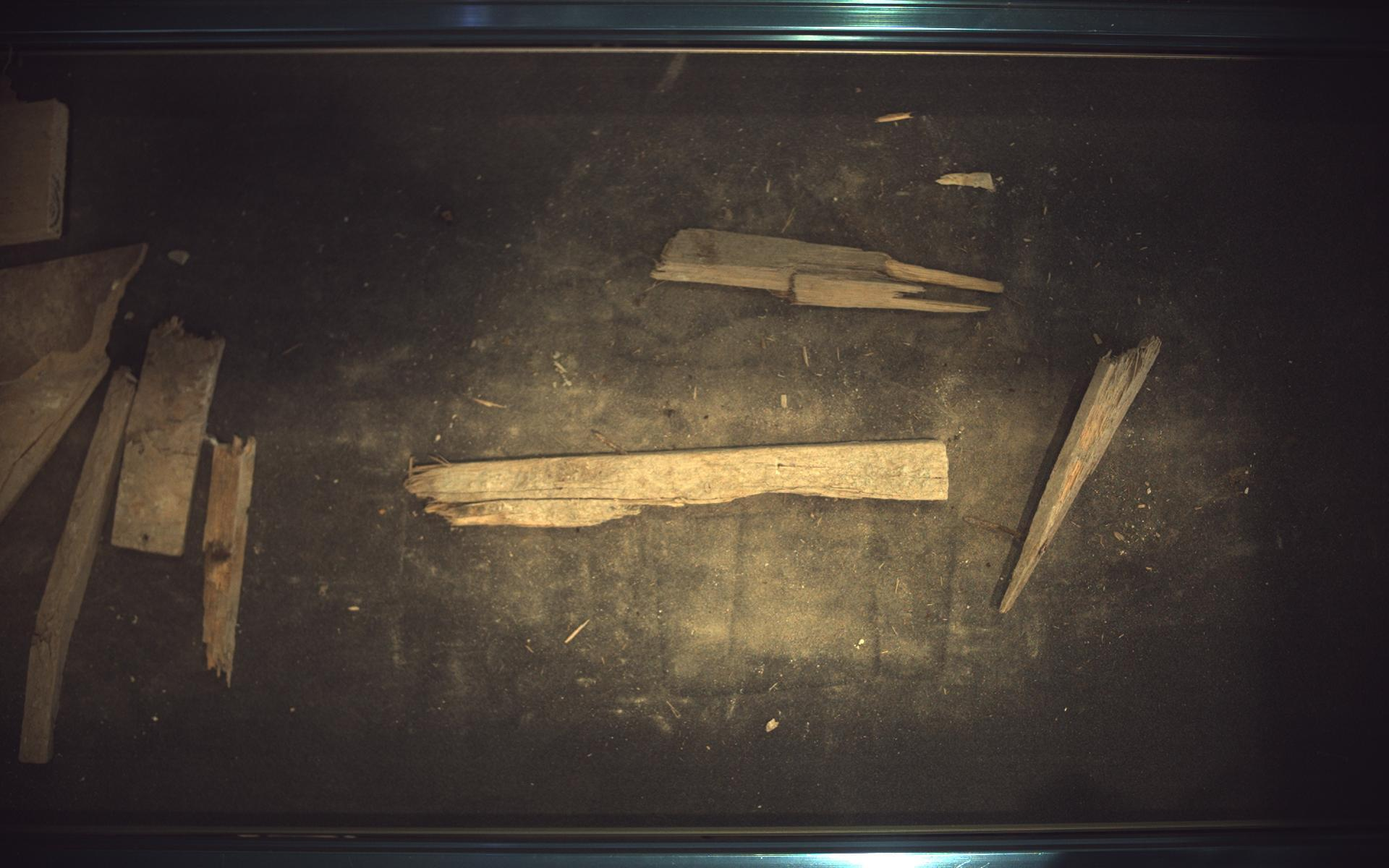wood: (405, 441, 951, 528), (17, 366, 135, 765), (1001, 337, 1165, 613), (1, 244, 145, 520), (652, 228, 1006, 313), (110, 317, 224, 556), (1, 73, 67, 244)
